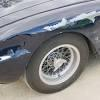front-bumper-dent: (31, 4, 99, 59)
